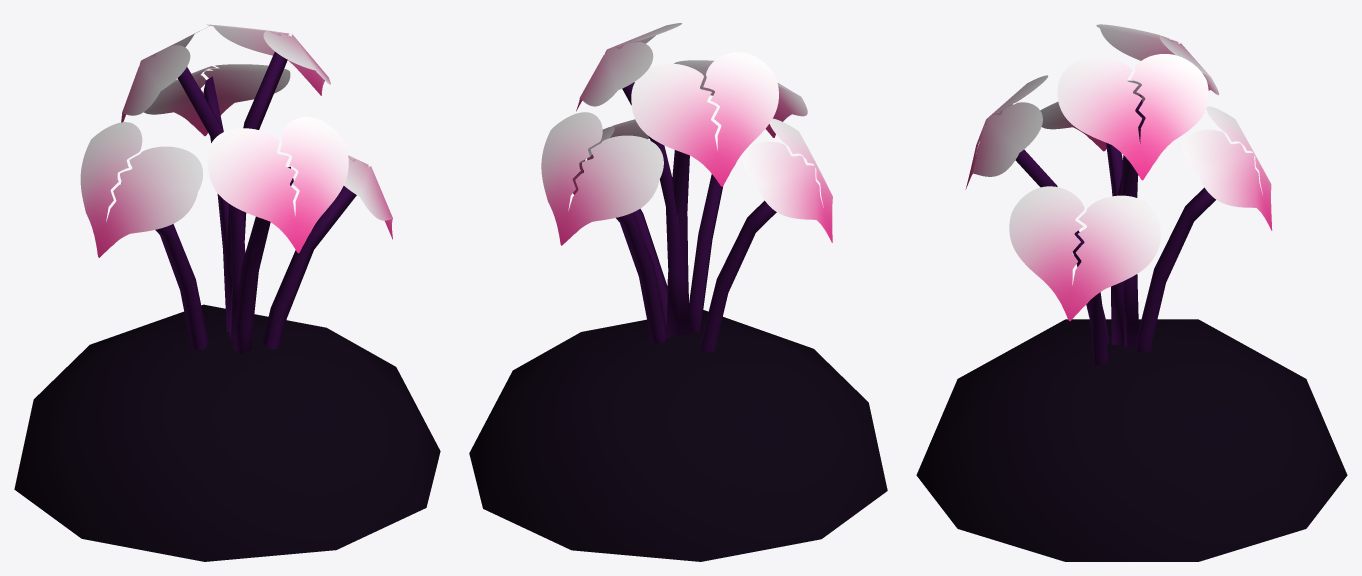
File: Bush6.fbx
3 renders of one model, left to right at view 1: azimuth 30°, elevation 25°; view 2: azimuth 150°, elevation 25°; view 3: azimuth 270°, elevation 25°, orthographic.
Parts seen in each view (by area): view 1: Icosphere.005; view 2: Icosphere.005; view 3: Icosphere.005.
Boxes of the visible parts, bbox=[...] form: Icosphere.005: bbox=[14, 24, 440, 561]; Icosphere.005: bbox=[469, 23, 887, 561]; Icosphere.005: bbox=[916, 24, 1347, 561].
Size of the model in its own units: 1.9 by 2.34 by 2.
3 materials, 1 textured.
